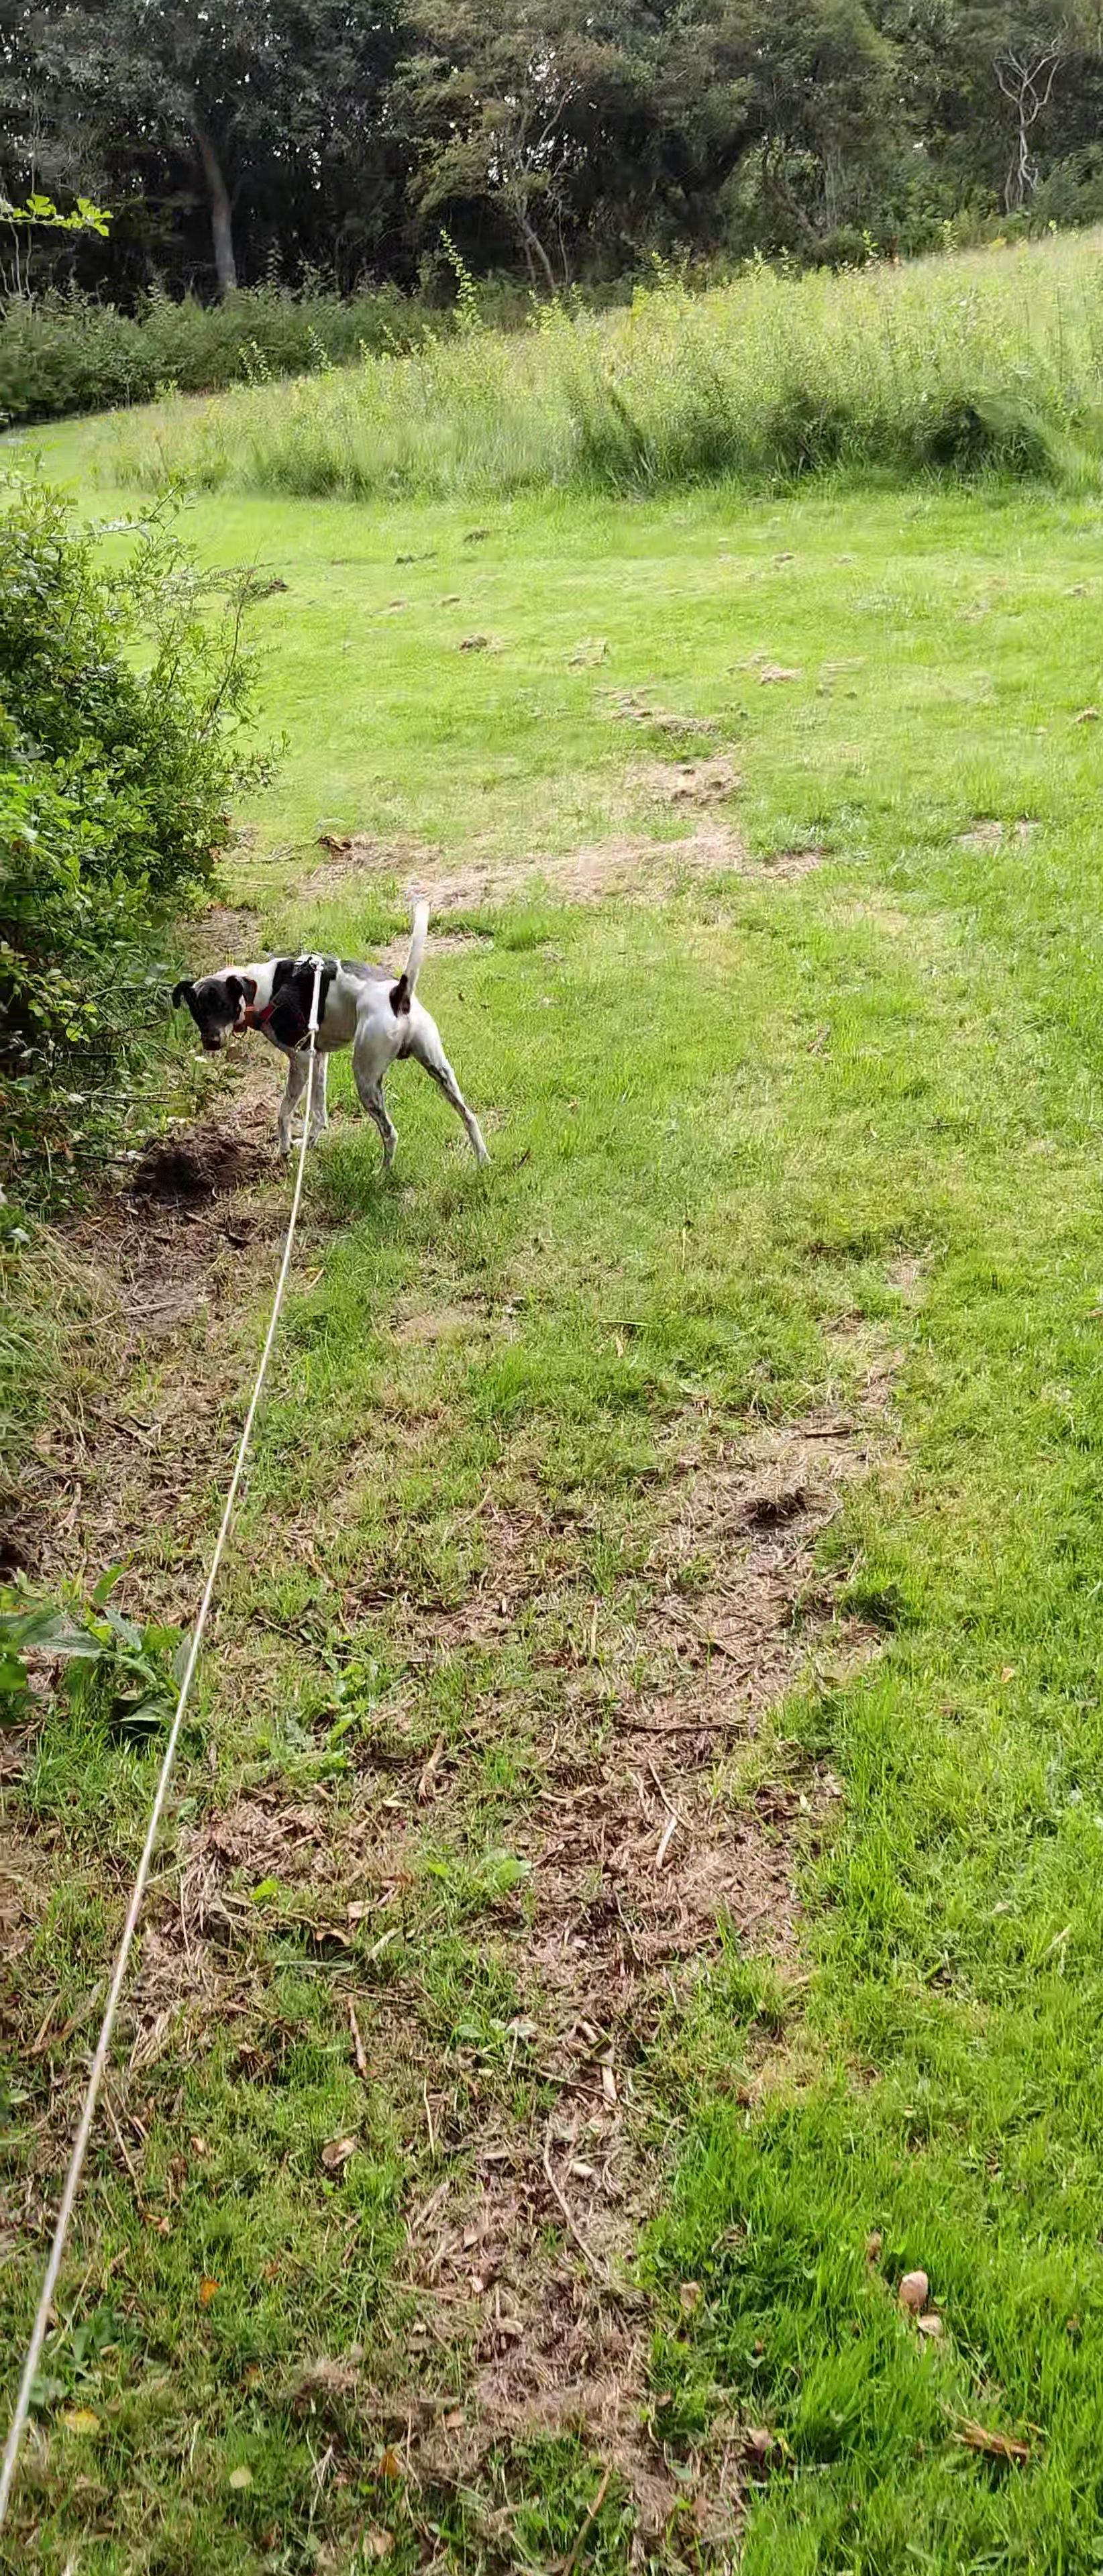Dog: (159, 892, 503, 1183)
